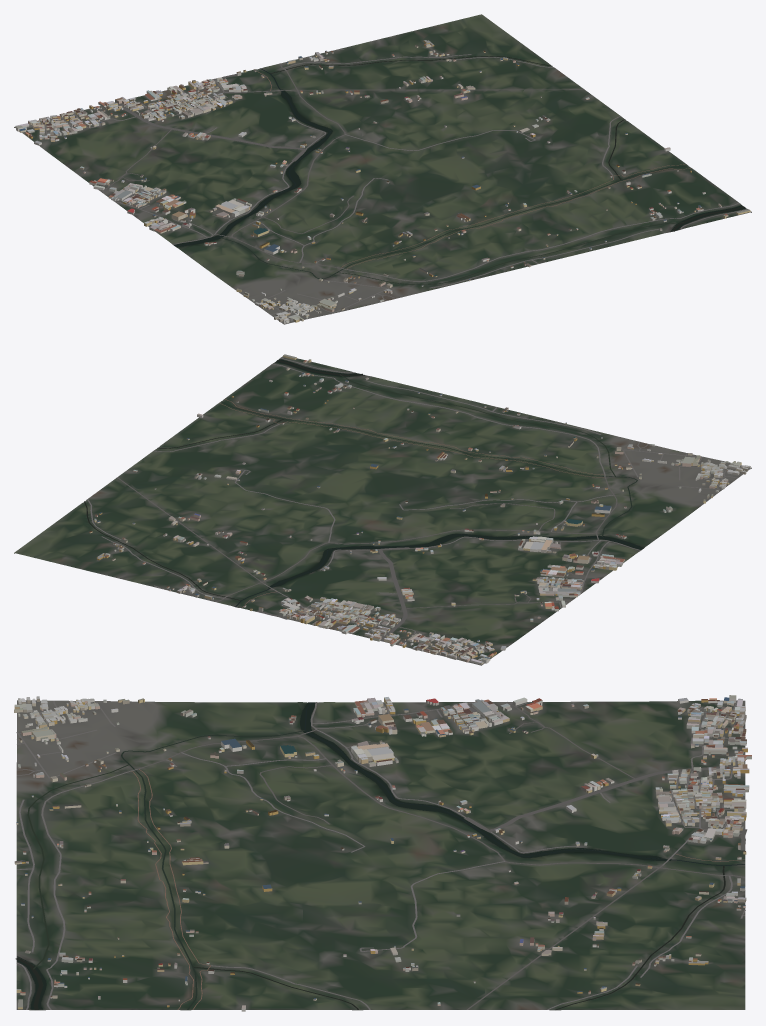
3 views of the same model, one above another, from view 1: azimuth 30°, elevation 25°; view 2: azimuth 150°, elevation 25°; view 3: azimuth 270°, elevation 25° (orthographic). The views are drawn at different scales.
Parts seen in each view (by area): view 1: ground, buildings, roads, water; view 2: ground, buildings, roads, water; view 3: ground, buildings, roads, water.
Part boxes in pixels (left/top/right/bottom): ground: left=14, top=14, right=751, bottom=324; buildings: left=15, top=40, right=750, bottom=324; roads: left=27, top=49, right=747, bottom=323; water: left=174, top=56, right=745, bottom=284; ground: left=14, top=356, right=751, bottom=665; buildings: left=89, top=354, right=750, bottom=664; roads: left=87, top=357, right=750, bottom=663; water: left=84, top=359, right=643, bottom=606; ground: left=16, top=700, right=745, bottom=1010; buildings: left=14, top=695, right=751, bottom=1011; roads: left=16, top=700, right=747, bottom=1009; water: left=15, top=702, right=744, bottom=1010.
Size of the model in its own units: 1414 by 16.9 by 1419.
